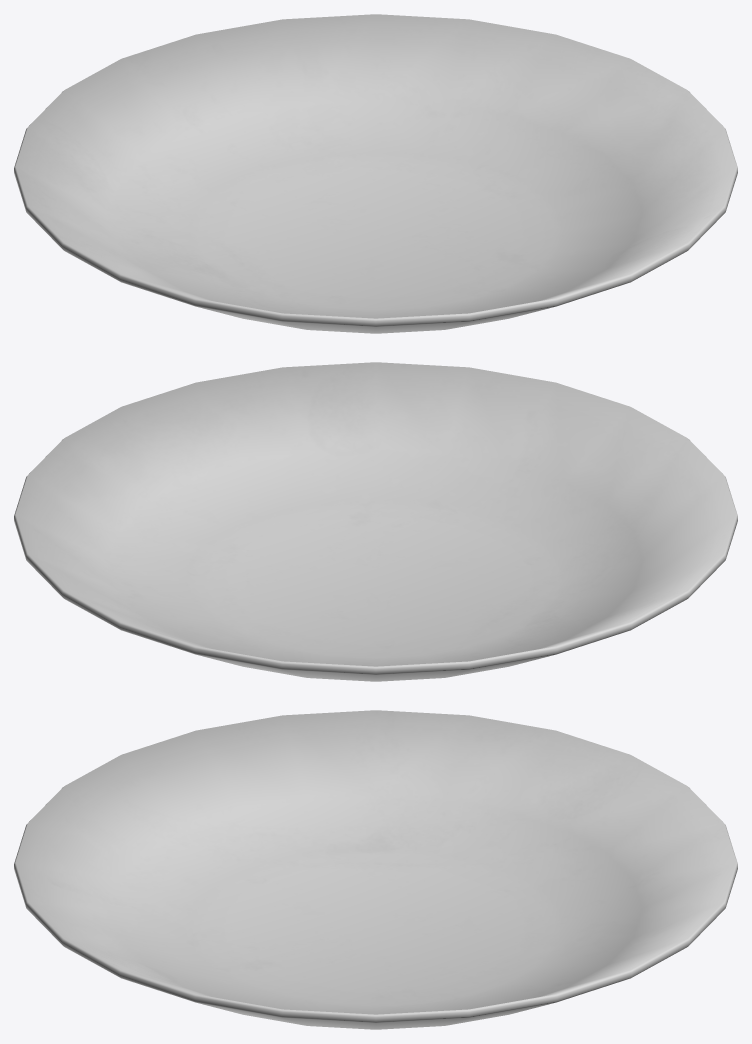
The model's file is Plate_02 1.FBX.
3 views of the same model, one above another, from view 1: azimuth 30°, elevation 25°; view 2: azimuth 150°, elevation 25°; view 3: azimuth 270°, elevation 25° (orthographic).
Parts seen in each view (by area): view 1: Plate_02; view 2: Plate_02; view 3: Plate_02.
Boxes of the visible parts, x1=… form: Plate_02: x1=14, y1=14, x2=737, y2=333; Plate_02: x1=14, y1=362, x2=737, y2=681; Plate_02: x1=14, y1=710, x2=737, y2=1029.
Size of the model in its own units: 17.17 by 1.94 by 17.17.
Materials: 1 (1 with a texture image).
